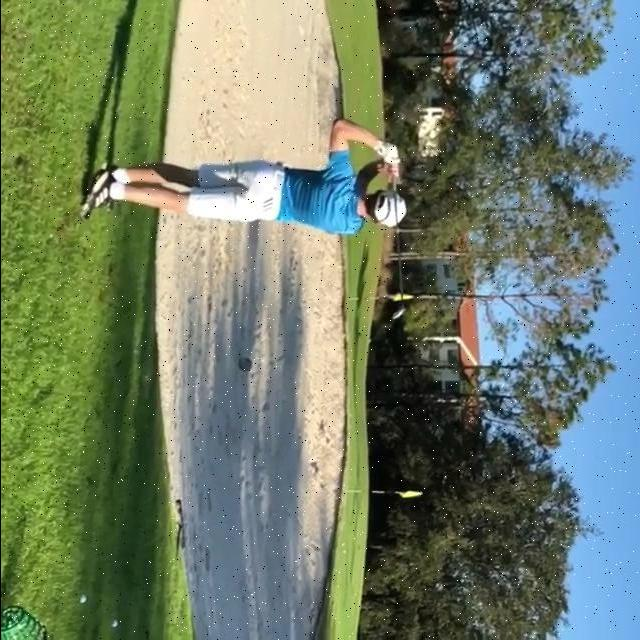golf club-handle: (389, 176, 405, 319)
golf club-head: (390, 308, 405, 319)
